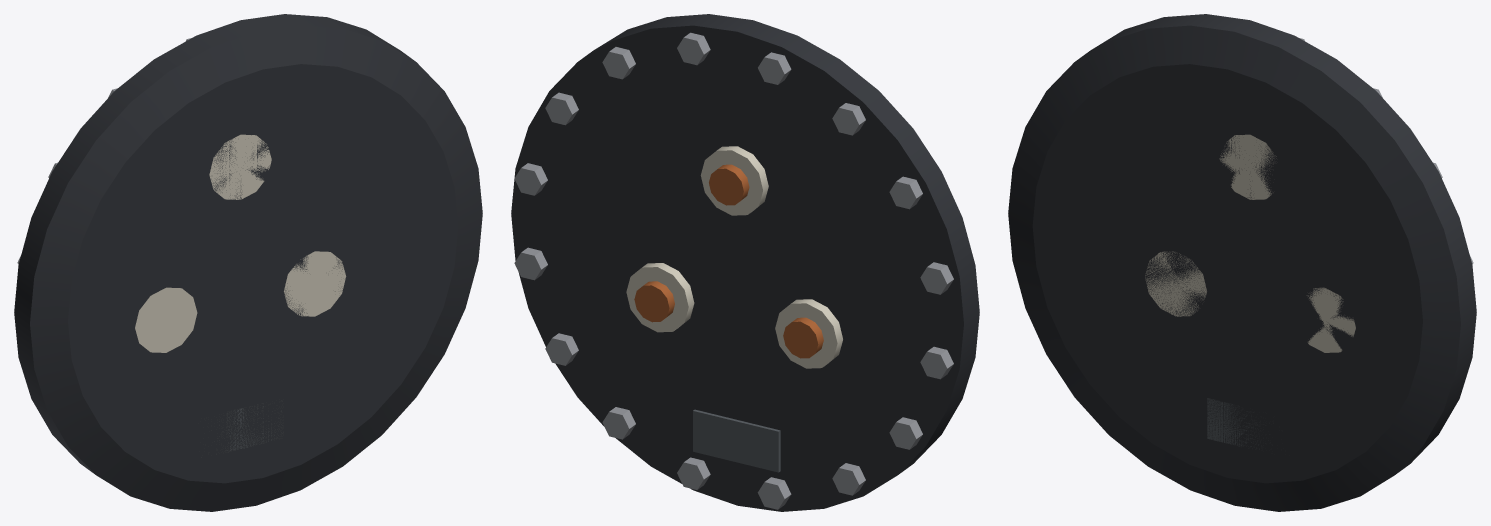
Rendered from s200_flange.obj.
3 renders of one model, left to right at view 1: azimuth 30°, elevation 25°; view 2: azimuth 150°, elevation 25°; view 3: azimuth 330°, elevation 25°, orthographic.
Visible parts, largest first — view 1: s200_flange; view 2: s200_flange; view 3: s200_flange.
Boxes of the visible parts, x1=… form: s200_flange: x1=14, y1=14, x2=482, y2=511; s200_flange: x1=511, y1=14, x2=979, y2=511; s200_flange: x1=1008, y1=14, x2=1476, y2=511.
Bounding box in the file's own units: 1.16 × 1.16 × 0.15.
